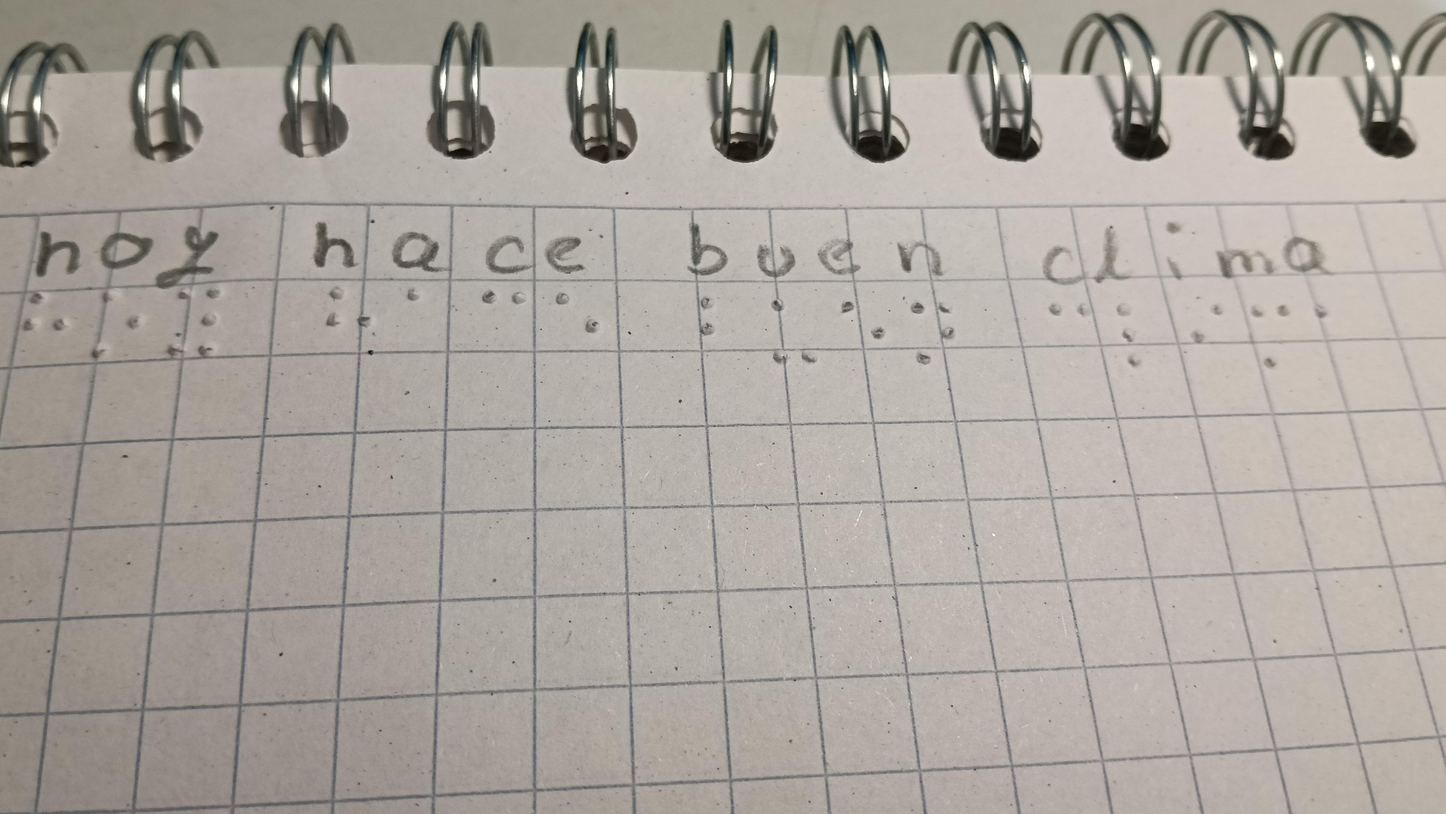a: (392, 282, 434, 319), (1306, 300, 1340, 326)
b: (686, 287, 735, 347)
c: (471, 280, 535, 323), (1037, 287, 1093, 335)
e: (548, 280, 615, 349), (842, 292, 898, 351)
h: (23, 284, 73, 356), (319, 275, 374, 340)
i: (1184, 301, 1233, 353)
l: (1102, 292, 1155, 374)
m: (1237, 294, 1304, 376)
n: (904, 296, 964, 372)
o: (94, 287, 152, 365)
u: (748, 287, 835, 379)
y: (161, 287, 232, 358)
